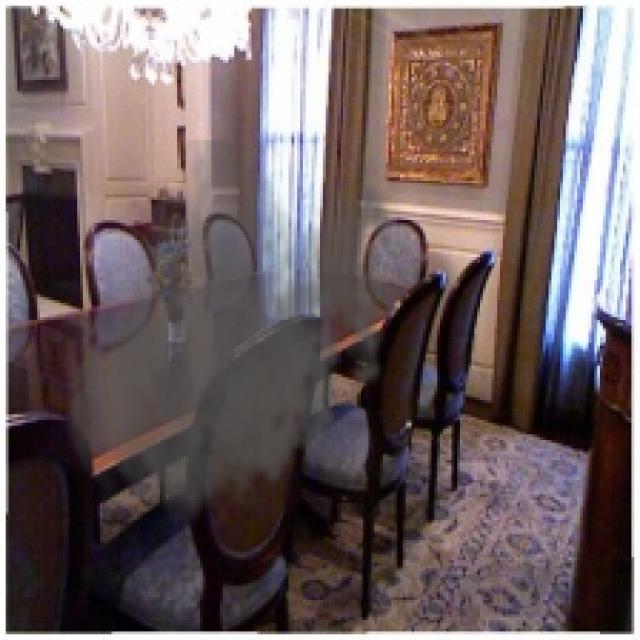smoke: (60, 140, 406, 543)
